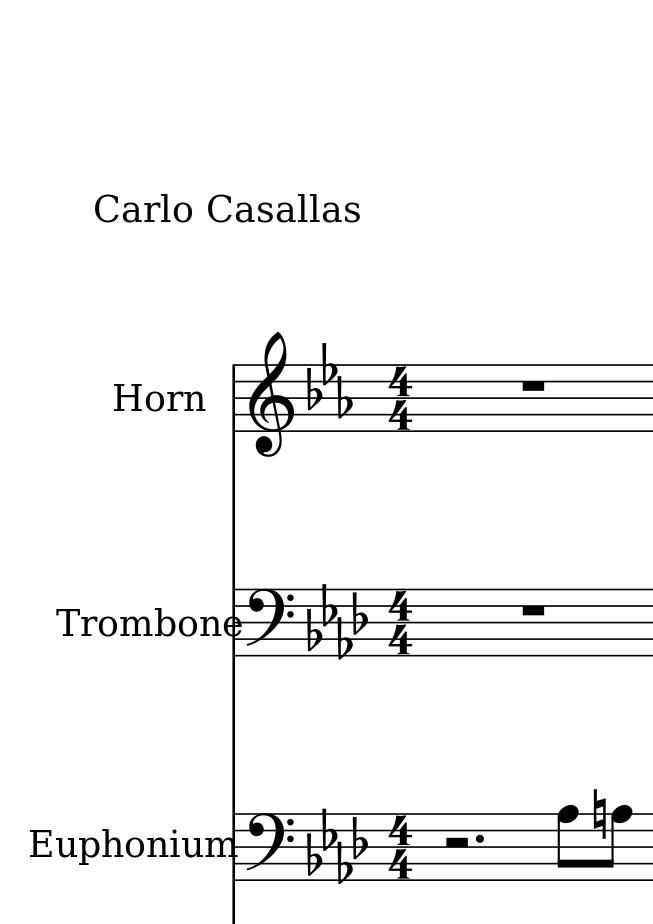4: (388, 620, 417, 653), (388, 589, 415, 622), (388, 363, 413, 396), (387, 397, 412, 429)
8_8: (603, 804, 634, 884), (555, 804, 580, 884)
A_F: (305, 807, 369, 884), (305, 581, 367, 658)
E_F: (304, 341, 351, 418)
Euph: (28, 826, 122, 868)
Fclef: (242, 811, 296, 883), (247, 586, 298, 660)
Gclef: (245, 328, 294, 459)
Hn: (108, 379, 210, 415)
Natural: (590, 784, 608, 836)
Rests1: (514, 373, 548, 394), (516, 600, 551, 618)
Rests2: (437, 835, 474, 854)
Single_barline: (226, 364, 242, 432)
Tbn: (57, 606, 245, 640)
TimeSig: (385, 588, 419, 656), (387, 812, 417, 884), (387, 364, 415, 434)
dot: (473, 831, 485, 845)
